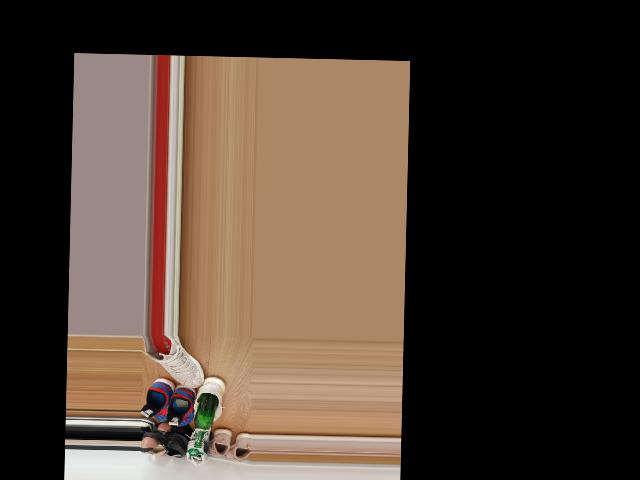beer: (193, 392, 218, 447)
